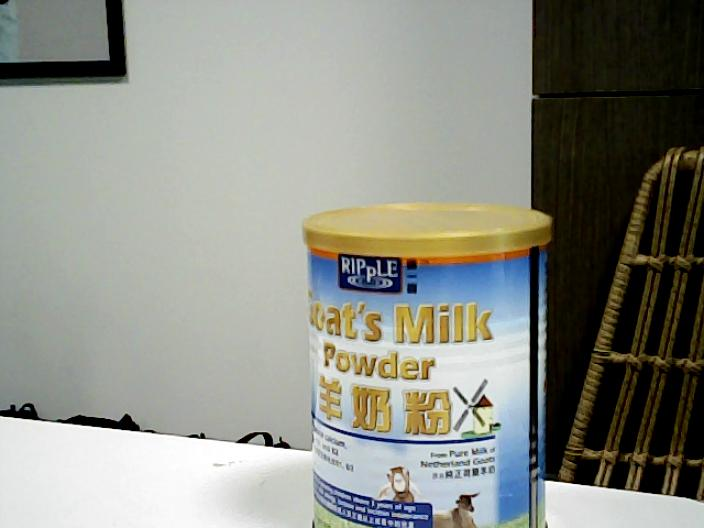Babymilk-powder_400-499g_Halal_NonHealthy: (312, 209, 547, 527)
